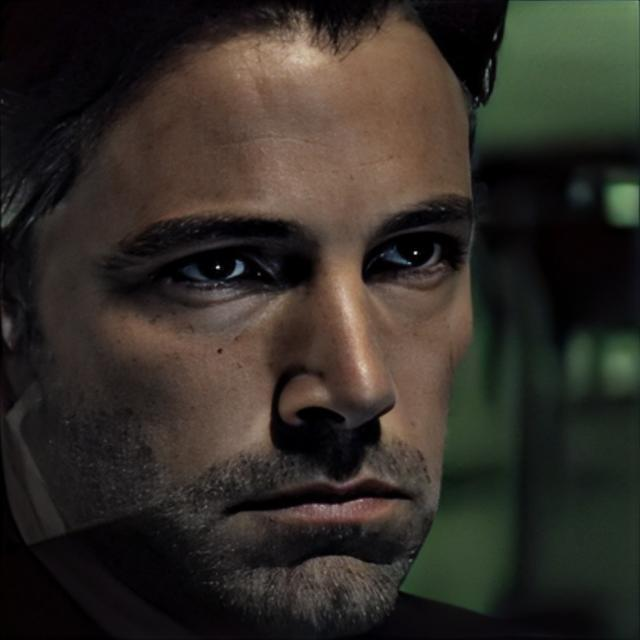anger: (29, 30, 472, 630)
